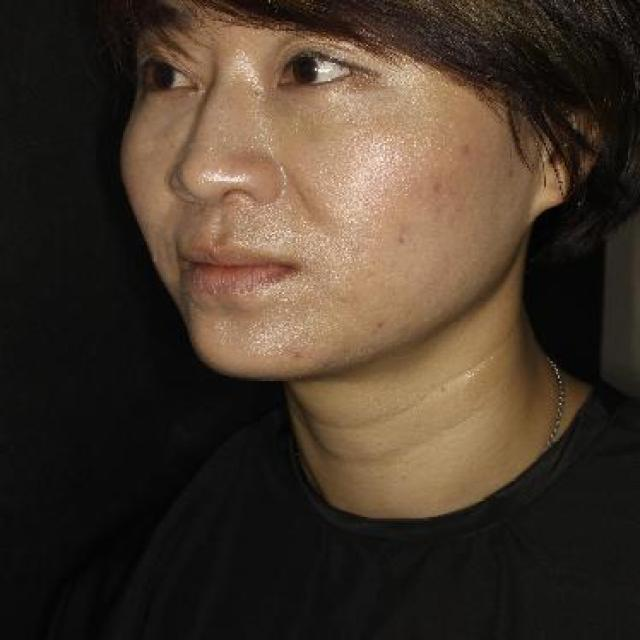acne: (452, 140, 480, 160), (394, 232, 416, 250), (288, 346, 306, 366), (372, 317, 388, 334)
